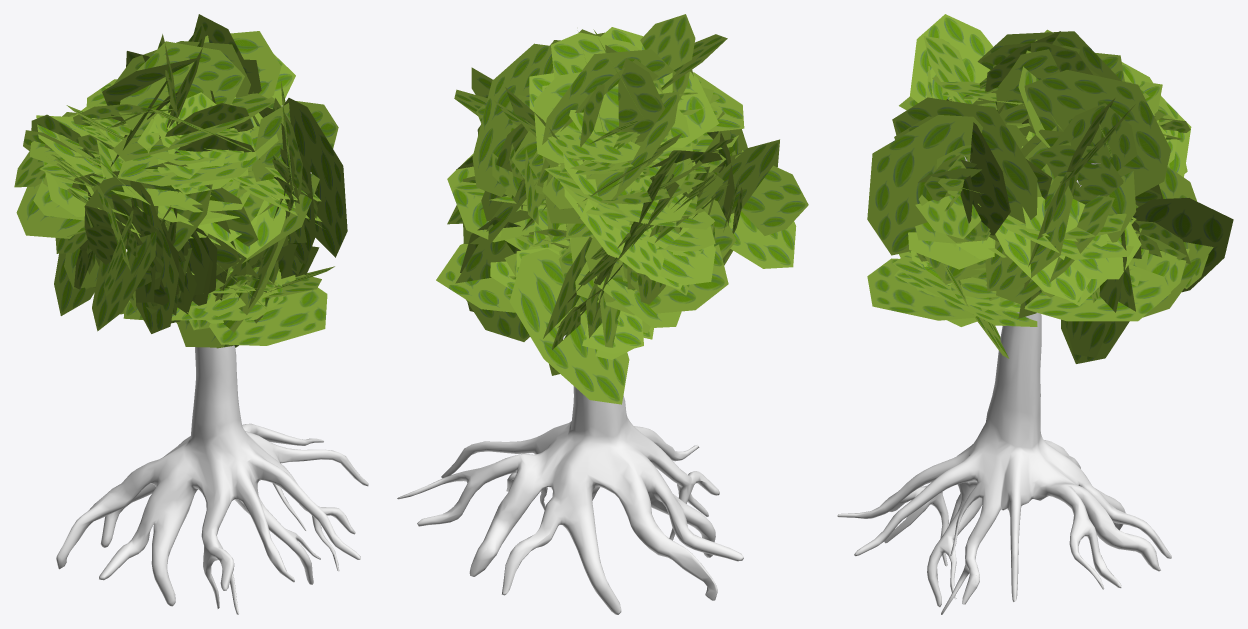
Rendered from Mangrove_Single.fbx.
3 views of the same model, side by side, from view 1: azimuth 30°, elevation 25°; view 2: azimuth 150°, elevation 25°; view 3: azimuth 270°, elevation 25° (orthographic). The views are drawn at different scales.
Parts seen in each view (by area): view 1: Mangrove_Single; view 2: Mangrove_Single; view 3: Mangrove_Single.
Boxes of the visible parts, box(x1,y1,x2,y2) form: Mangrove_Single: box(14, 14, 368, 614); Mangrove_Single: box(397, 14, 808, 614); Mangrove_Single: box(837, 14, 1233, 614).
Size of the model in its own units: 1300 by 2131 by 1411.
